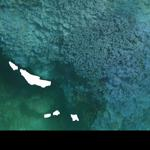dead: (1, 2, 143, 127)
